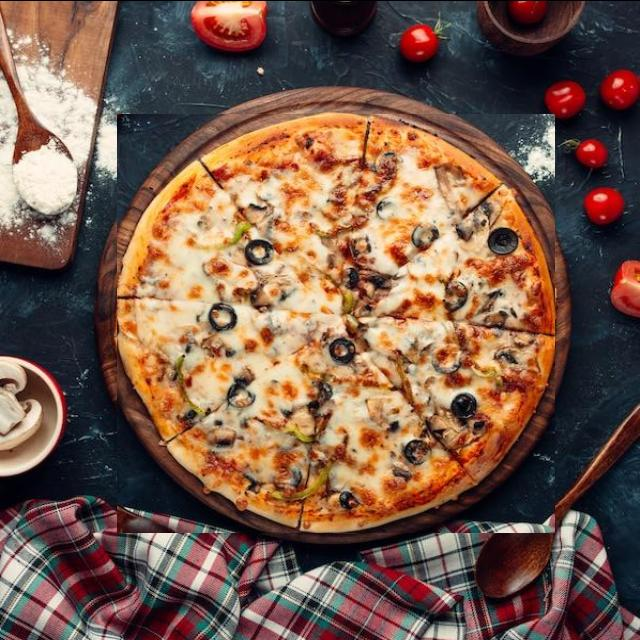olive: (210, 346, 241, 373), (153, 226, 185, 252), (339, 379, 364, 412), (435, 303, 464, 331), (399, 238, 427, 264), (240, 439, 267, 465), (417, 381, 445, 406), (194, 392, 220, 418), (233, 223, 260, 248), (204, 280, 226, 310), (317, 337, 343, 362), (312, 489, 332, 508), (312, 268, 328, 289), (370, 463, 384, 486), (413, 472, 428, 492), (283, 197, 296, 217)
pizza: (117, 113, 555, 532)
